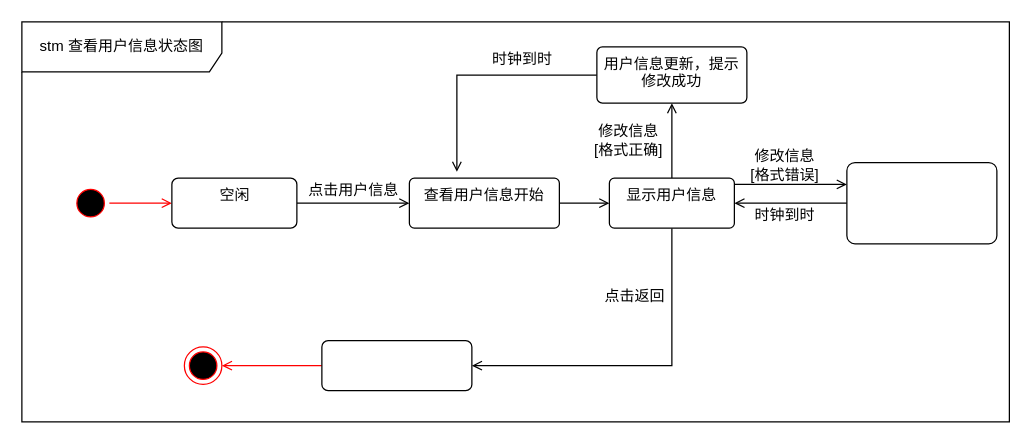
Some shapes in this 1031 by 444 pixel diagram are drawn without their labels. Each missing label, with the box of its shape:
查看用户信息结束: (321, 339, 472, 391)
错误提示: (846, 161, 997, 244)
